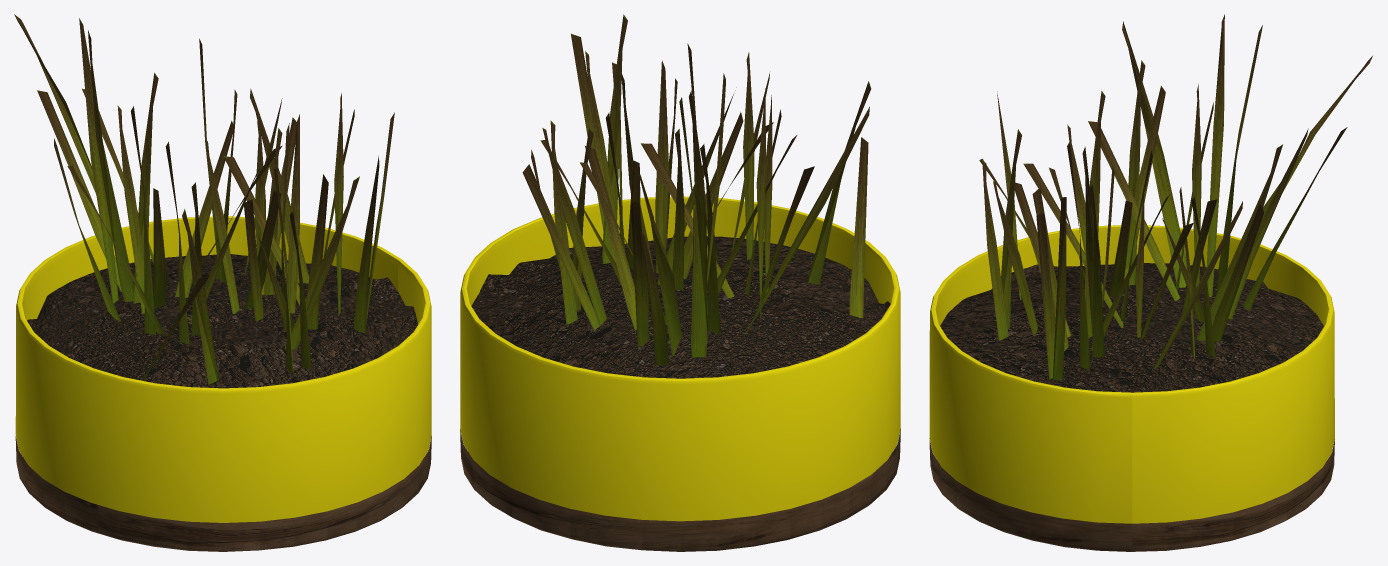
Rendered from Potted Common Grass.glb.
The picture shows the model from 3 angles, left to right: view 1: azimuth 30°, elevation 25°; view 2: azimuth 150°, elevation 25°; view 3: azimuth 270°, elevation 25°; orthographic projection. The views are drawn at different scales.
Parts seen in each view (by area): view 1: 95b34478-0974-4739-8caf-31915c8441f1, c27d765c-39d6-427b-b504-86f96778f61e, 5747162f-8027-473a-b387-e7bd1c4b1bda, a43b0c28-b3e2-4786-ab13-78b08a82c2b5; view 2: 95b34478-0974-4739-8caf-31915c8441f1, c27d765c-39d6-427b-b504-86f96778f61e, 5747162f-8027-473a-b387-e7bd1c4b1bda, a43b0c28-b3e2-4786-ab13-78b08a82c2b5; view 3: 95b34478-0974-4739-8caf-31915c8441f1, c27d765c-39d6-427b-b504-86f96778f61e, 5747162f-8027-473a-b387-e7bd1c4b1bda, a43b0c28-b3e2-4786-ab13-78b08a82c2b5.
Boxes of the visible parts, x1=… form: 95b34478-0974-4739-8caf-31915c8441f1: x1=15, y1=216, x2=431, y2=522; c27d765c-39d6-427b-b504-86f96778f61e: x1=14, y1=14, x2=394, y2=384; 5747162f-8027-473a-b387-e7bd1c4b1bda: x1=27, y1=254, x2=418, y2=388; a43b0c28-b3e2-4786-ab13-78b08a82c2b5: x1=15, y1=436, x2=431, y2=551; 95b34478-0974-4739-8caf-31915c8441f1: x1=460, y1=196, x2=900, y2=521; c27d765c-39d6-427b-b504-86f96778f61e: x1=522, y1=14, x2=871, y2=365; 5747162f-8027-473a-b387-e7bd1c4b1bda: x1=471, y1=236, x2=890, y2=378; a43b0c28-b3e2-4786-ab13-78b08a82c2b5: x1=460, y1=429, x2=900, y2=551; 95b34478-0974-4739-8caf-31915c8441f1: x1=929, y1=225, x2=1334, y2=523; c27d765c-39d6-427b-b504-86f96778f61e: x1=979, y1=14, x2=1372, y2=380; 5747162f-8027-473a-b387-e7bd1c4b1bda: x1=940, y1=263, x2=1323, y2=392; a43b0c28-b3e2-4786-ab13-78b08a82c2b5: x1=929, y1=438, x2=1334, y2=551.
Bounding box in the file's own units: 0.2054 × 0.2319 × 0.2249.
4 materials, 3 textured.
